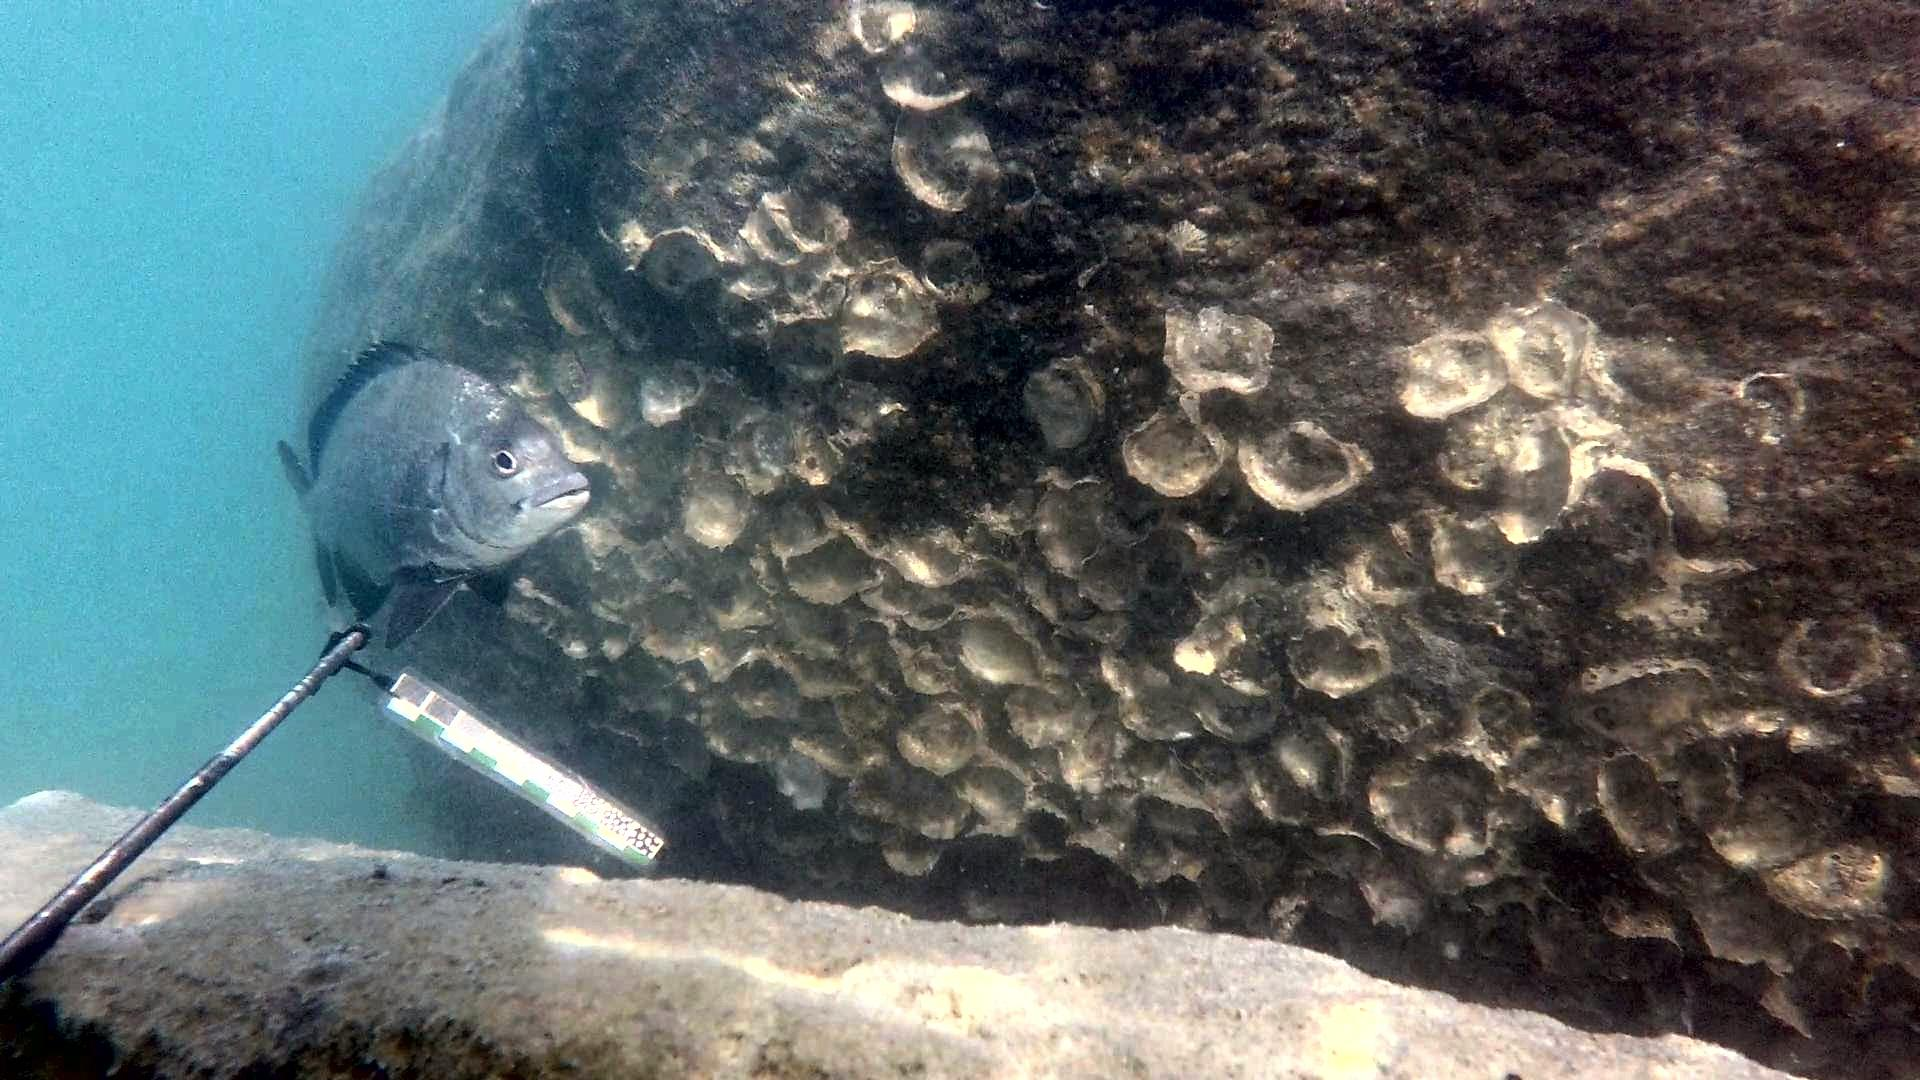acanthopagrus palmaris: (270, 331, 601, 659)
